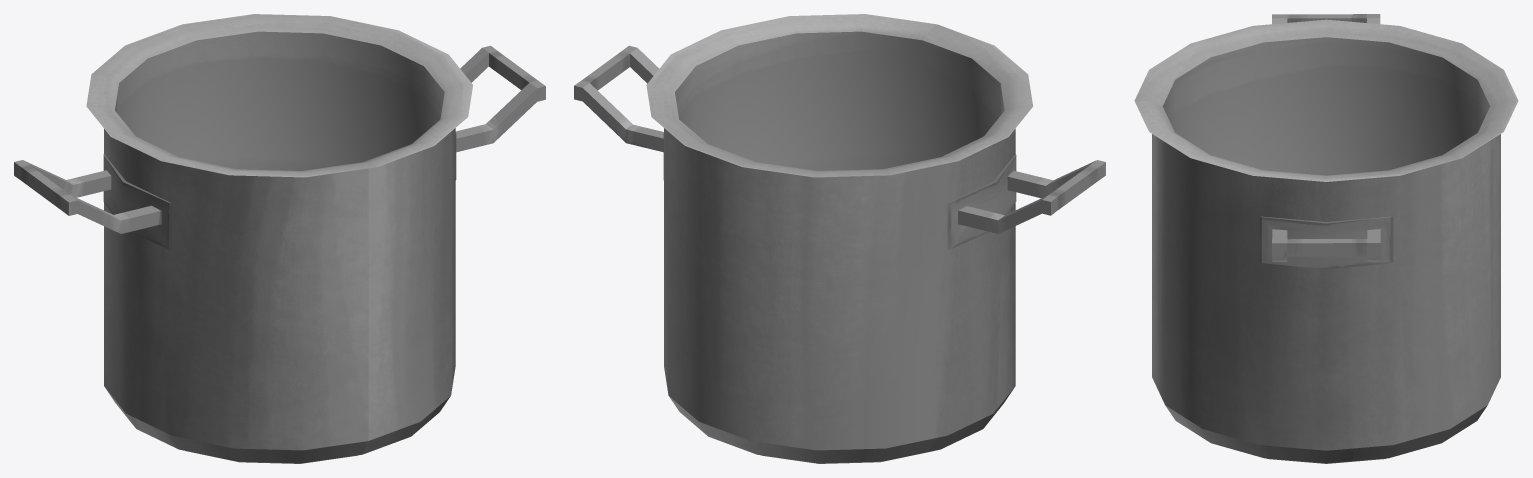
File: pot.fbx
3 views of the same model, side by side, from view 1: azimuth 30°, elevation 25°; view 2: azimuth 150°, elevation 25°; view 3: azimuth 270°, elevation 25° (orthographic).
Visible parts, largest first — view 1: pot; view 2: pot; view 3: pot.
Part boxes in pixels (left/top/right/bottom): pot: left=14, top=14, right=545, bottom=463; pot: left=574, top=14, right=1105, bottom=463; pot: left=1134, top=14, right=1518, bottom=463.
Size of the model in its own units: 252 by 153 by 179.
